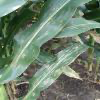Corn leaf blight: (3, 0, 95, 81), (19, 45, 91, 99), (1, 7, 41, 50), (53, 17, 99, 40)
